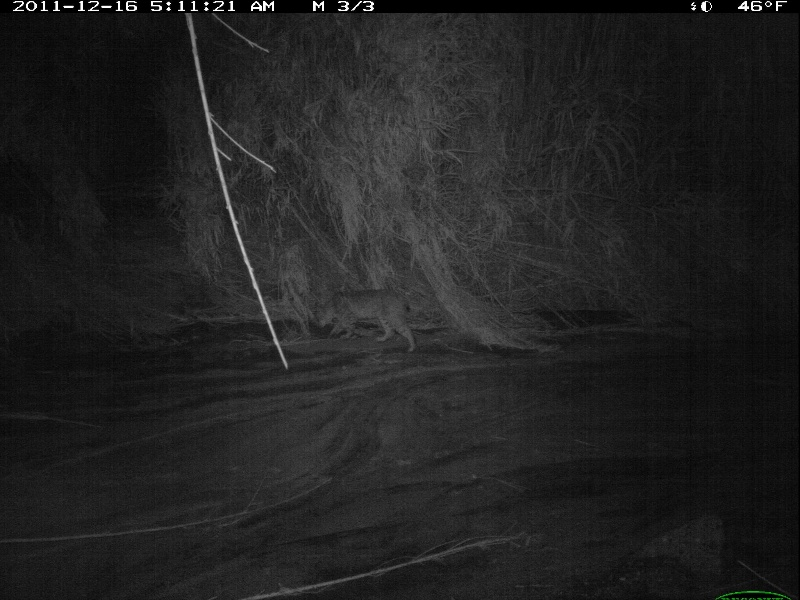cat: (313, 287, 419, 356)
